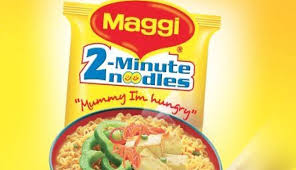maggie: (61, 3, 210, 170)
